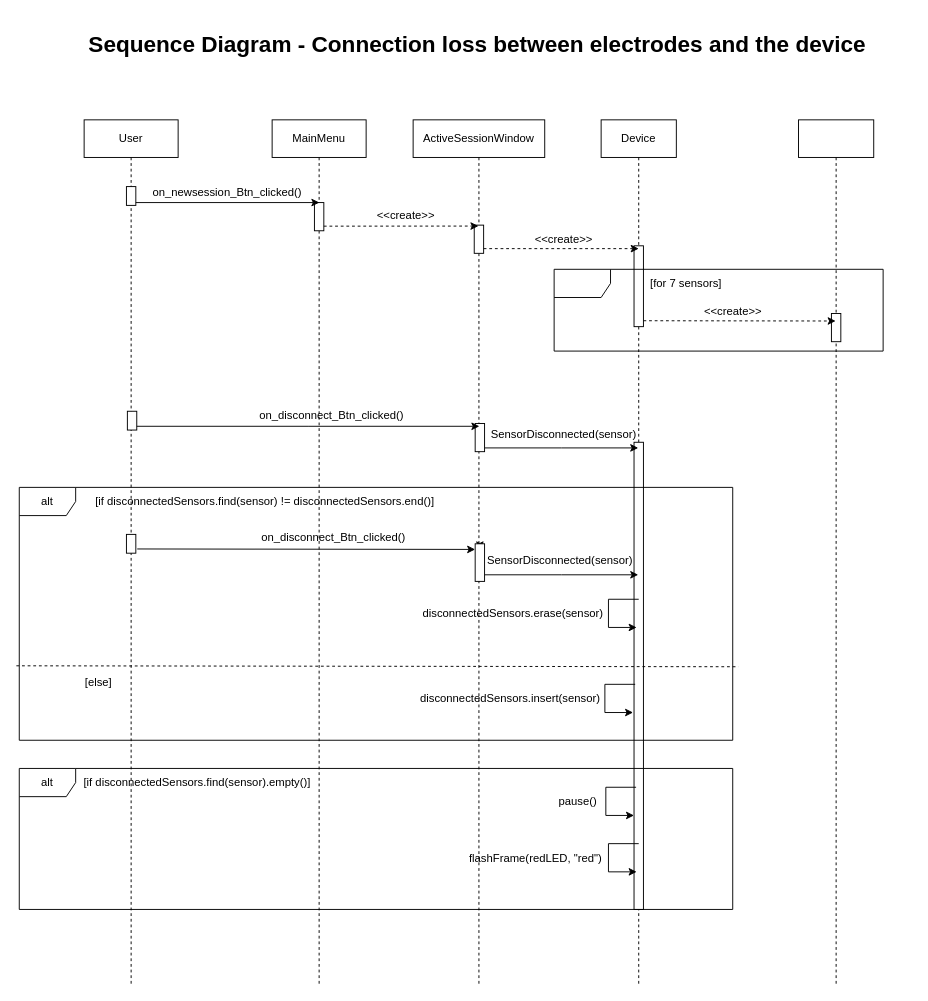
The diagram is 928 pixels wide and 1001 high, and some of its shapes have lost their labels. The shapes that lost their labels are listed below. From the top down, each one's box as (x1, y1, x2, y2) in pixels, then its label:
(553, 268, 883, 351): loop
(798, 119, 874, 985): Sensor
